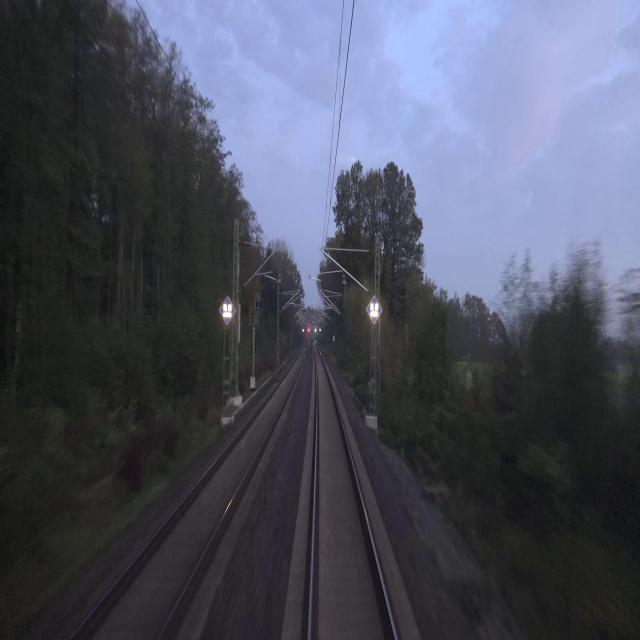rail-track: (74, 349, 304, 639), (312, 346, 394, 639)
